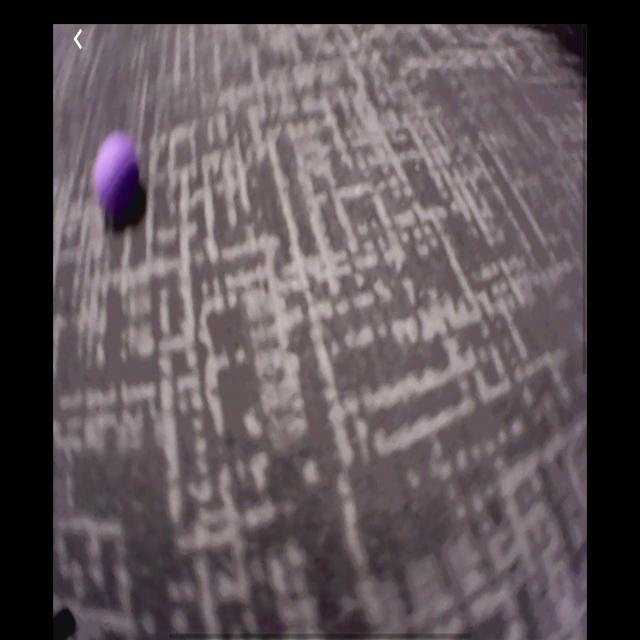ball: (97, 131, 141, 216)
